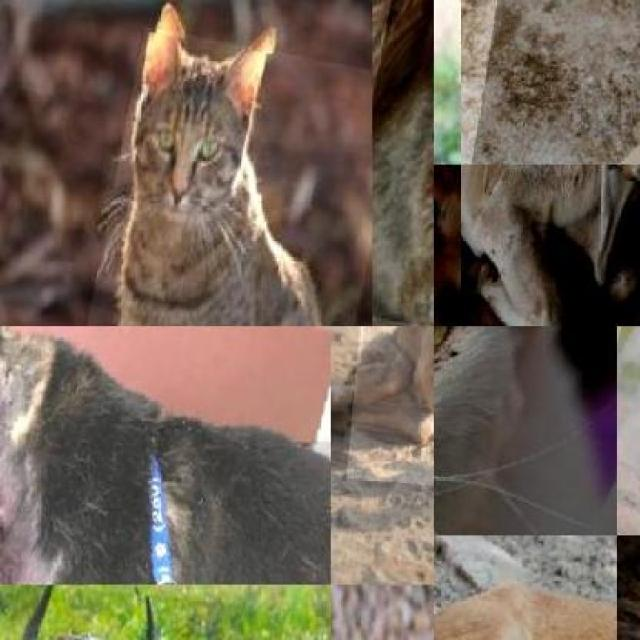cat: (39, 26, 372, 326), (434, 327, 617, 536)
cow: (460, 165, 640, 326)
dog: (0, 326, 331, 585), (460, 0, 640, 165), (372, 0, 434, 326), (434, 535, 617, 640), (346, 326, 434, 497)
injured: (372, 0, 434, 326), (331, 355, 432, 483), (0, 457, 42, 585)
